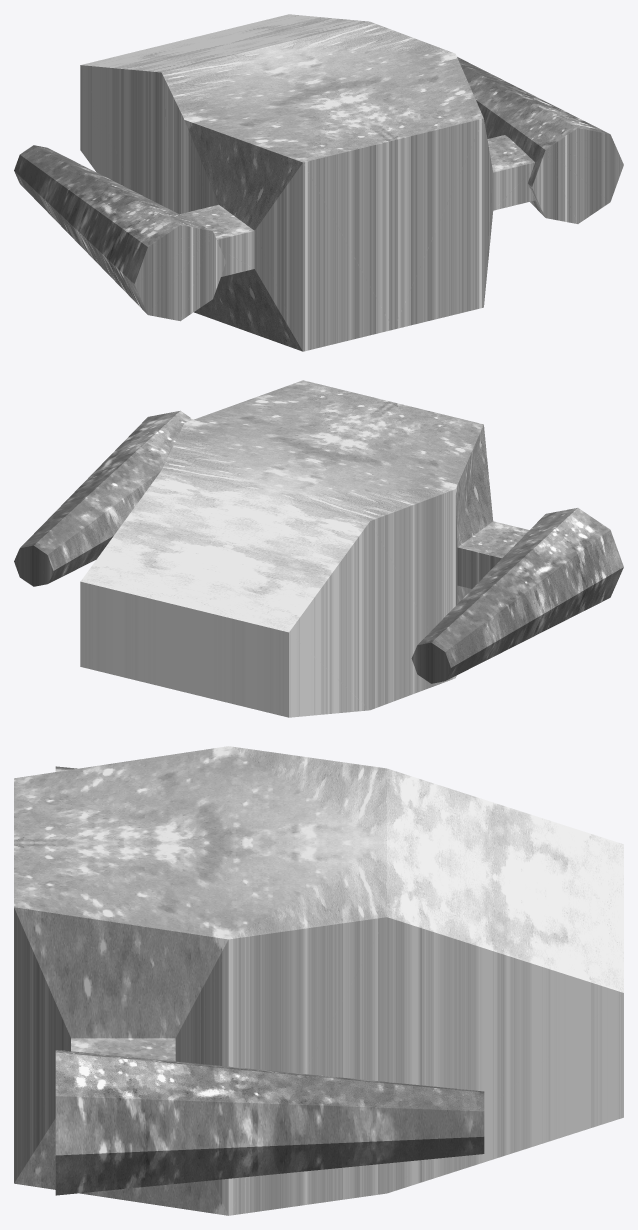
Rendered from ship.fbx.
The picture shows the model from 3 angles, top to bottom: view 1: azimuth 30°, elevation 25°; view 2: azimuth 150°, elevation 25°; view 3: azimuth 270°, elevation 25°; orthographic projection. The views are drawn at different scales.
Visible parts, largest first — view 1: ship; view 2: ship; view 3: ship.
Boxes of the visible parts, left/top/right/bottom form: ship: left=14, top=14, right=623, bottom=351; ship: left=14, top=380, right=623, bottom=717; ship: left=14, top=746, right=623, bottom=1215.
Size of the model in its own units: 135 by 50 by 100.
